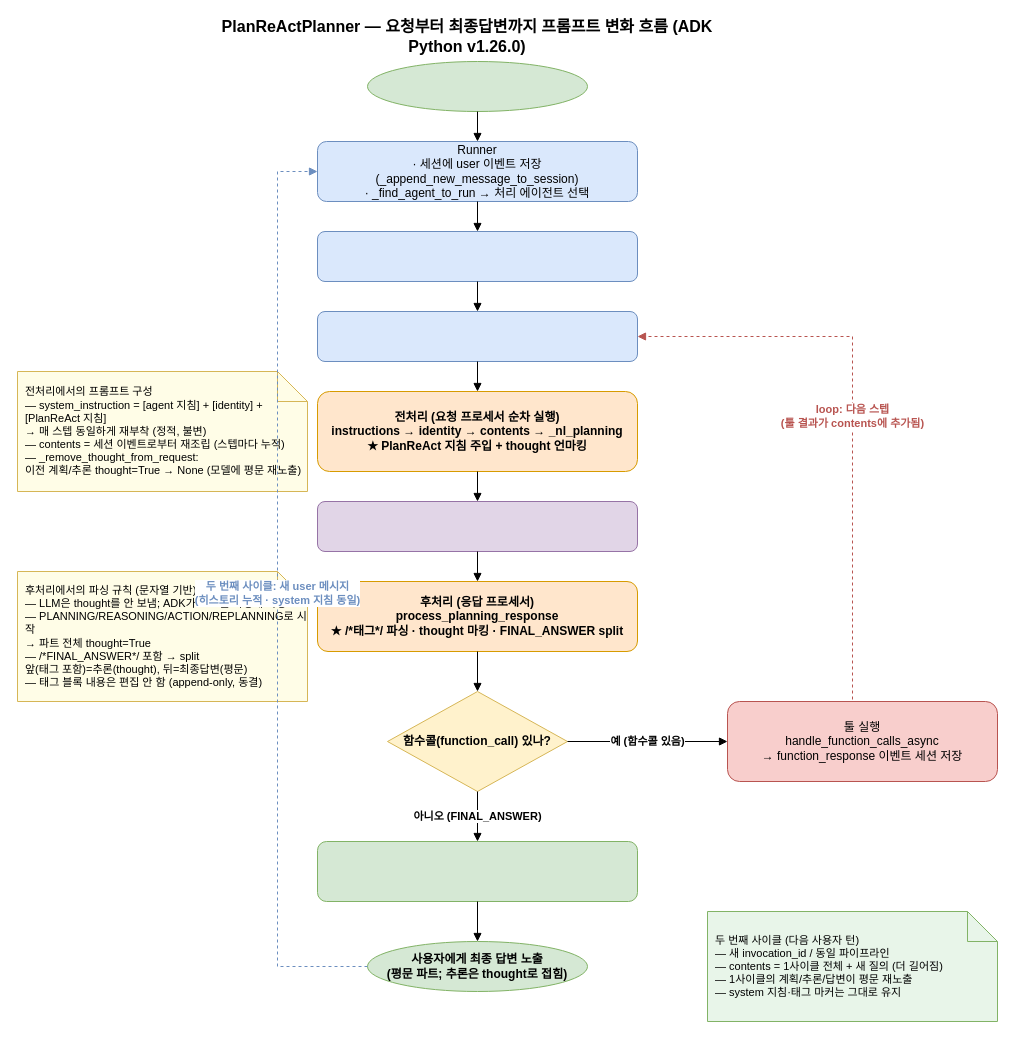
Some shapes in this 1015 by 1039 pixel diagram are drawn without their labels. The box of each missing label's shape, as (x1, y1, x2, y2) in pixels:
_run_one_step_async llm_request = LlmRequest() ← 매 스텝 새 객체: (316, 310, 638, 362)
Agent.run_async → BaseLlmFlow.run_async while 루프 시작 (1스텝 = LLM 1회 호출): (316, 230, 638, 282)
is_final_response = True → while break runner: 최종 이벤트 세션 저장: (316, 840, 638, 902)
모델 호출 (generate_content): (316, 500, 638, 552)
사용자 요청 runner.run_async(new_message): (366, 60, 588, 112)
